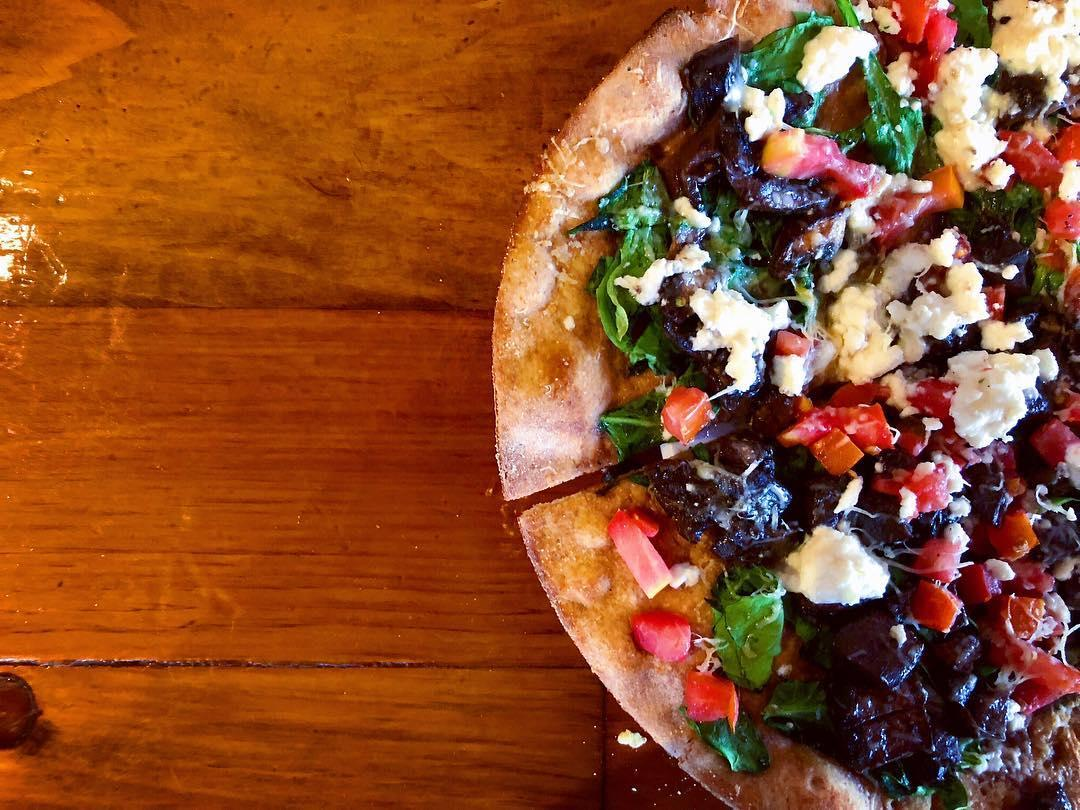Cheese: (922, 33, 1011, 184), (777, 516, 898, 623), (942, 335, 1039, 450), (816, 256, 900, 384), (683, 288, 780, 393), (894, 261, 990, 342), (995, 0, 1080, 85), (798, 17, 883, 95), (892, 225, 973, 279), (736, 89, 792, 142)
Peppers: (778, 382, 896, 478), (862, 160, 965, 249), (872, 0, 953, 96), (598, 501, 674, 598), (993, 627, 1080, 702), (1034, 191, 1080, 317), (755, 119, 839, 186), (849, 461, 960, 509), (993, 119, 1059, 193), (619, 605, 698, 665), (676, 662, 737, 728), (983, 502, 1048, 559), (983, 588, 1047, 641), (905, 366, 965, 422), (909, 577, 970, 630), (828, 149, 883, 205), (1026, 419, 1080, 468), (1013, 553, 1061, 607), (915, 535, 961, 585), (1050, 104, 1080, 174), (893, 416, 936, 462), (963, 559, 1001, 603), (991, 437, 1022, 479), (938, 424, 972, 461), (1053, 385, 1080, 429)
Pizza: (493, 0, 1080, 810)
